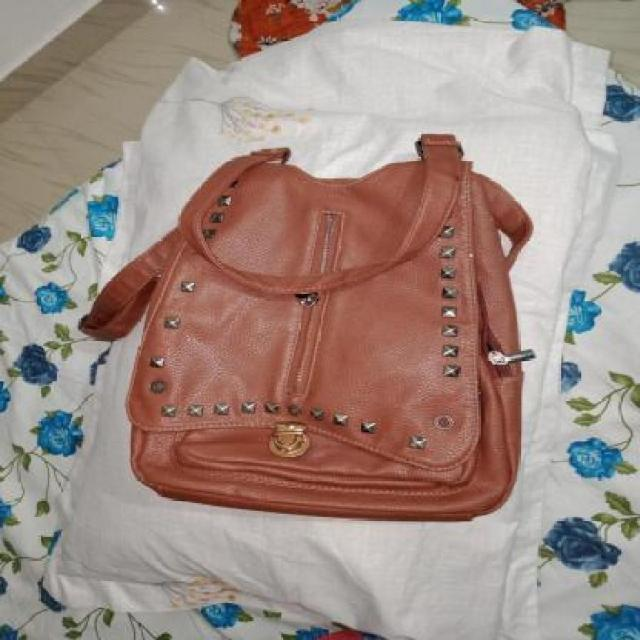backpack: (62, 124, 546, 536)
